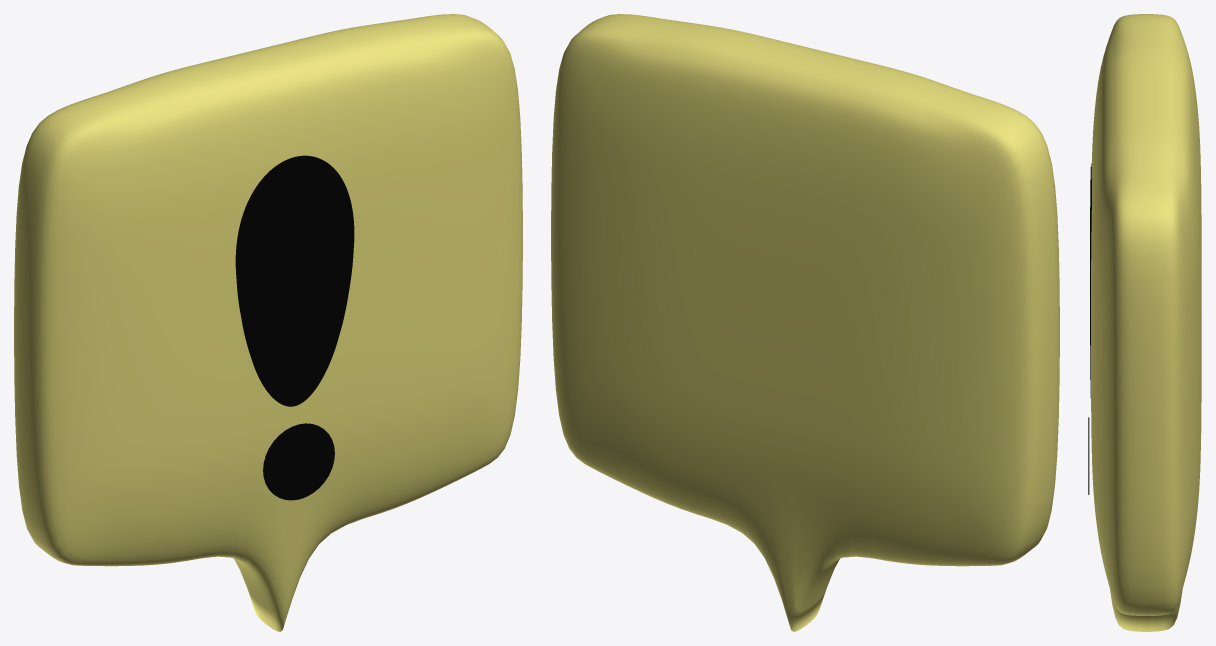
File: exclamationbubble.fbx
3 views of the same model, side by side, from view 1: azimuth 30°, elevation 25°; view 2: azimuth 150°, elevation 25°; view 3: azimuth 270°, elevation 25° (orthographic). The views are drawn at different scales.
Visible parts, largest first — view 1: Roundcube.004, Circle.012, Circle.011; view 2: Roundcube.004; view 3: Roundcube.004, Circle.012.
Part boxes in pixels (x1,y1,x2,y2): Roundcube.004: [14, 14, 522, 631]; Circle.012: [235, 155, 354, 406]; Circle.011: [263, 423, 334, 500]; Roundcube.004: [551, 14, 1059, 631]; Roundcube.004: [1091, 14, 1201, 631]; Circle.012: [1090, 163, 1091, 397].
Size of the model in its own units: 36.01 by 40.01 by 7.66.
